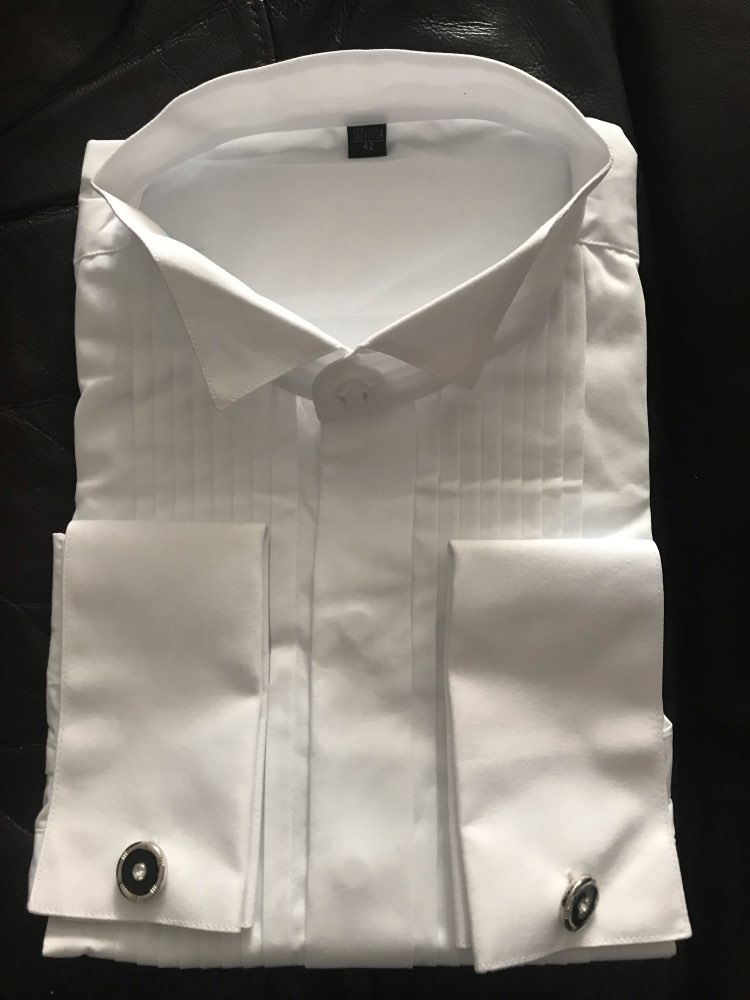shirts: (48, 54, 671, 950)
